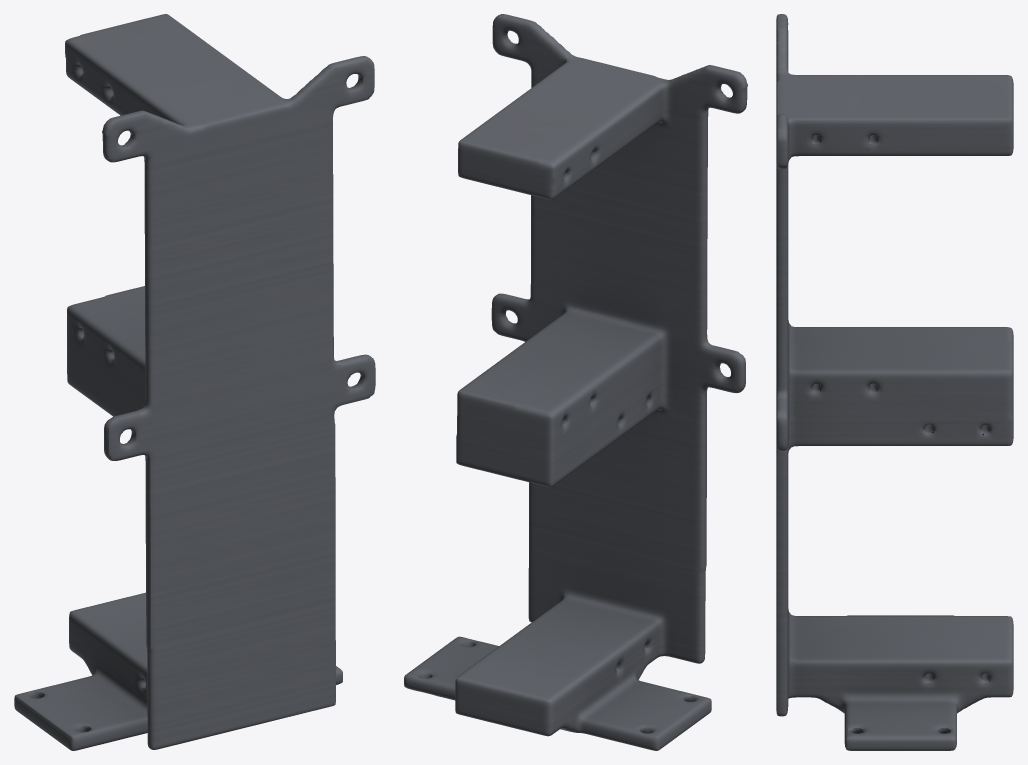
Rendered from Left_forarm_internal_support.glb.
3 views of the same model, side by side, from view 1: azimuth 30°, elevation 25°; view 2: azimuth 150°, elevation 25°; view 3: azimuth 270°, elevation 25° (orthographic). The views are drawn at different scales.
Visible parts, largest first — view 1: Left_forarm_internal_support; view 2: Left_forarm_internal_support; view 3: Left_forarm_internal_support.
Boxes of the visible parts, x1,y1,x2,y2 form: Left_forarm_internal_support: (14, 14, 375, 750); Left_forarm_internal_support: (404, 14, 747, 750); Left_forarm_internal_support: (776, 14, 1013, 750).
Bounding box in the file's own units: 0.0443 × 0.1015 × 0.0352.
1 material, 1 textured.
